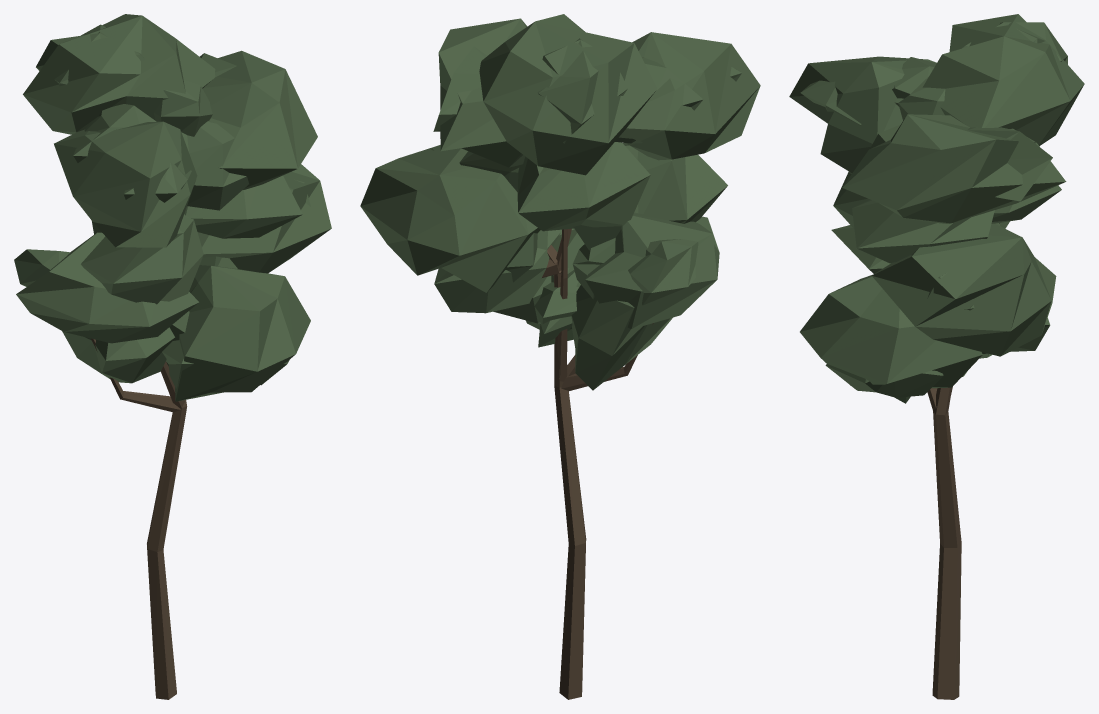
3 renders of one model, left to right at view 1: azimuth 30°, elevation 25°; view 2: azimuth 150°, elevation 25°; view 3: azimuth 270°, elevation 25°, orthographic. The views are drawn at different scales.
Visible parts, largest first — view 1: pine; view 2: pine; view 3: pine.
Part boxes in pixels (left/top/right/bottom): pine: left=14, top=14, right=331, bottom=699; pine: left=360, top=14, right=760, bottom=699; pine: left=789, top=14, right=1084, bottom=699.
Size of the model in its own units: 13.31 by 26.79 by 10.78.
